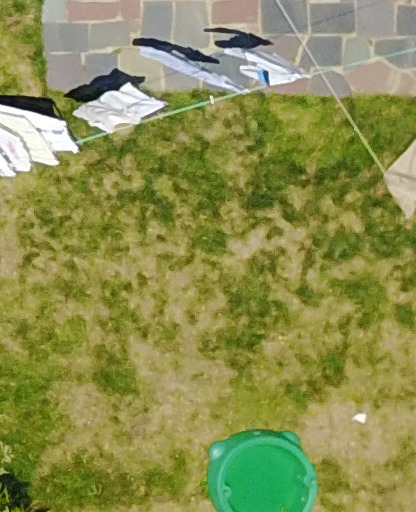toy: (192, 413, 329, 512)
